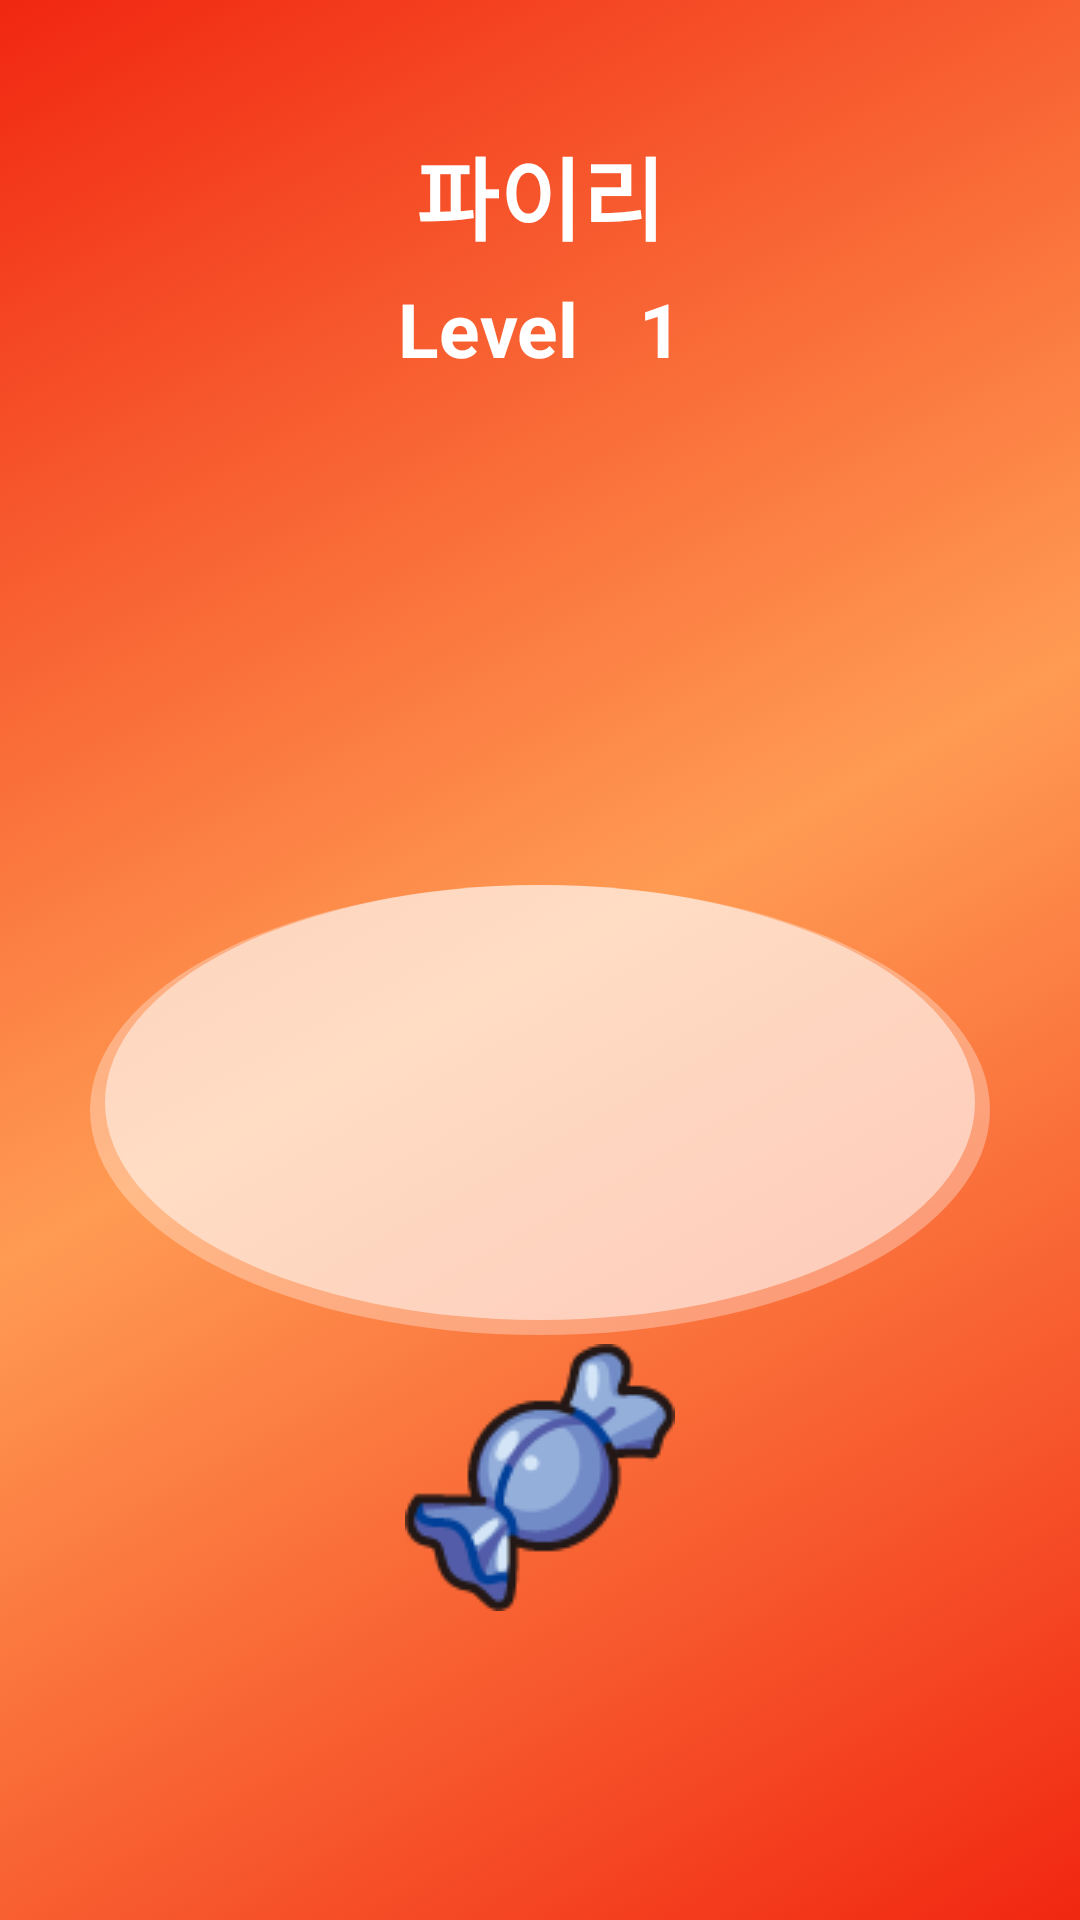

Named icons in this screenshot (1080×1920) and their centers, [x,y]:
rare candy: [540,1477]
